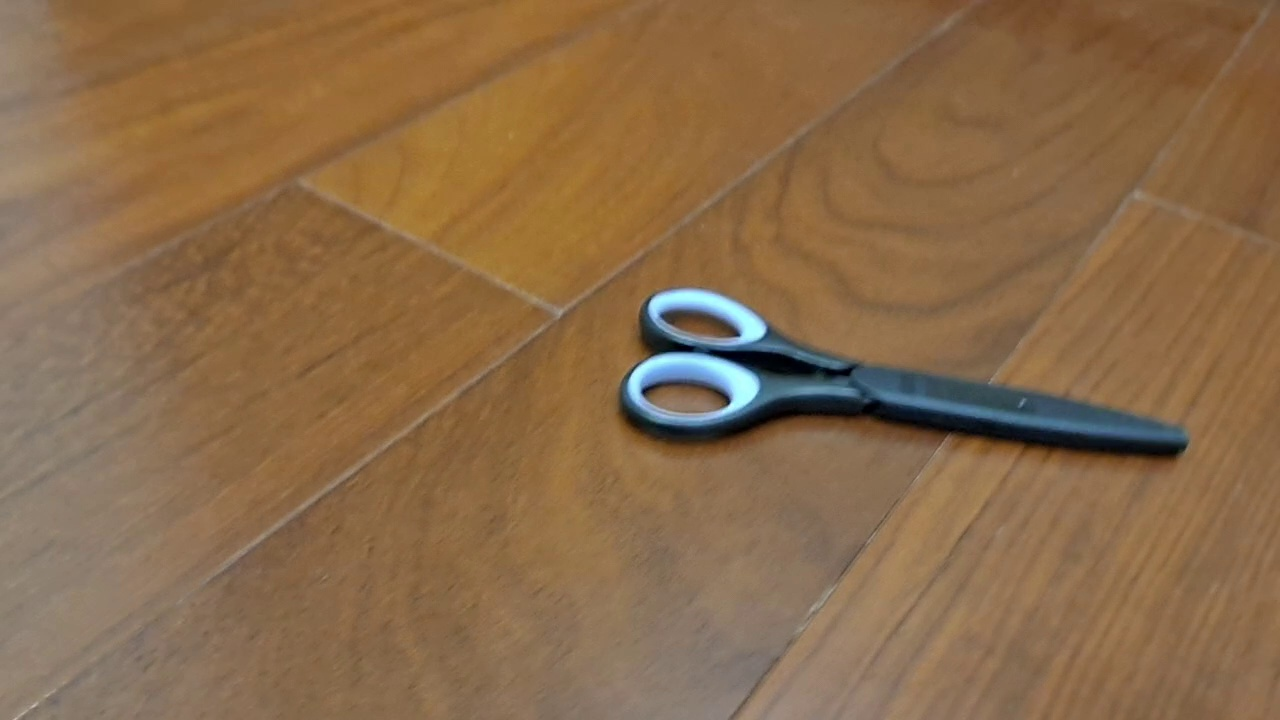scissors: (617, 286, 1190, 461)
